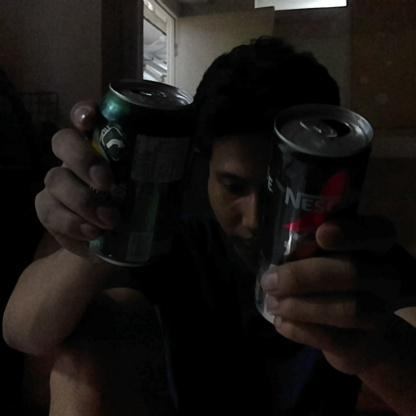alumunium_can: (257, 103, 376, 326), (87, 78, 191, 271)
